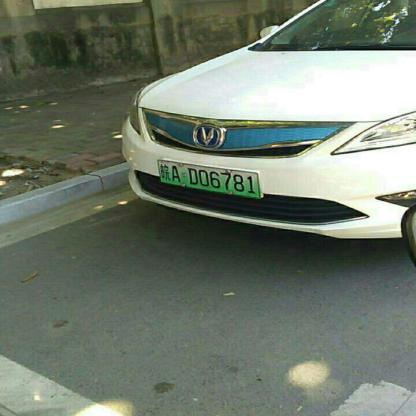lp: (158, 160, 259, 196)
